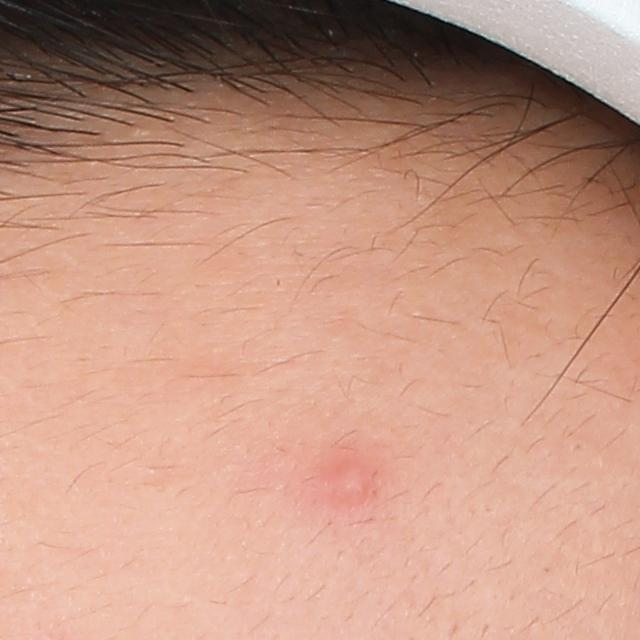papule: (328, 457, 381, 507)
